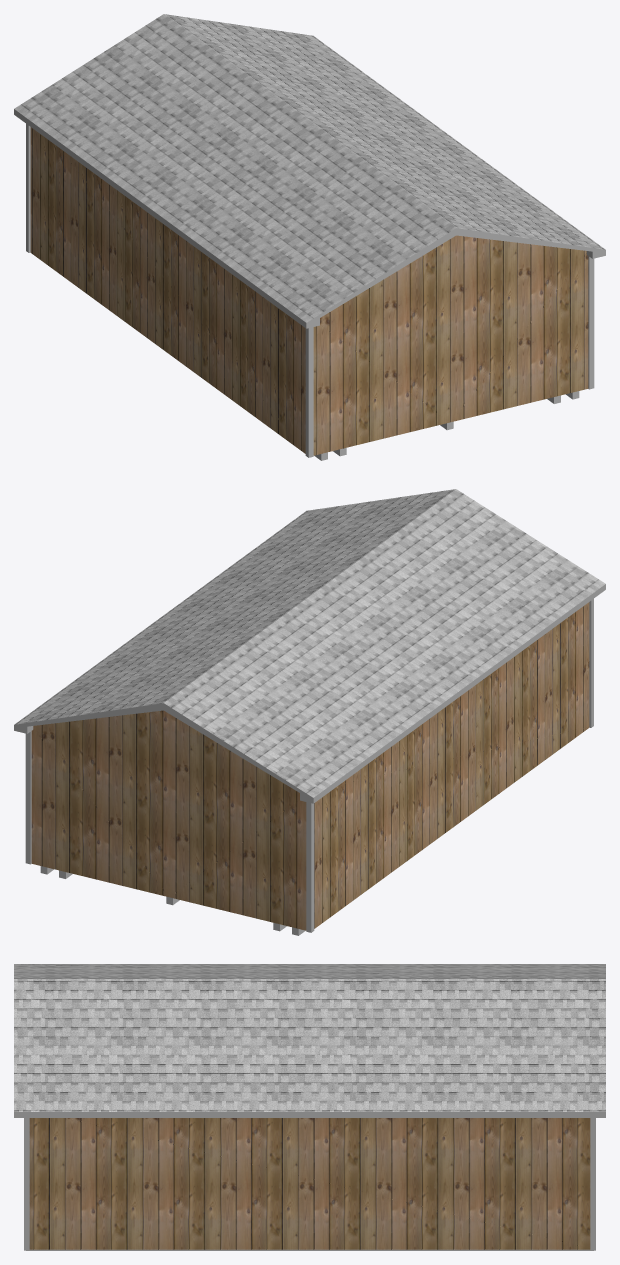
Rendered from Classic A-Frame_14x24.obj.
The picture shows the model from 3 angles, top to bottom: view 1: azimuth 30°, elevation 25°; view 2: azimuth 150°, elevation 25°; view 3: azimuth 270°, elevation 25°; orthographic projection.
Visible parts, largest first — view 1: Roof, Shed, Sides, Trim; view 2: Roof, Shed, Sides, Trim; view 3: Roof, Shed, Sides, Trim, Floor.
Part boxes in pixels (<box>): Roof: <box>14,14,605,322</box>; Shed: <box>30,127,588,455</box>; Sides: <box>14,109,605,328</box>; Trim: <box>26,124,594,457</box>; Roof: <box>14,489,605,797</box>; Shed: <box>31,602,589,930</box>; Sides: <box>14,584,605,803</box>; Trim: <box>25,599,593,932</box>; Roof: <box>14,964,605,1111</box>; Shed: <box>29,1118,590,1249</box>; Sides: <box>14,1112,605,1117</box>; Trim: <box>24,1118,595,1250</box>; Floor: <box>26,1249,593,1250</box>.
Size of the model in its own units: 4.5 by 2.96 by 7.62.
